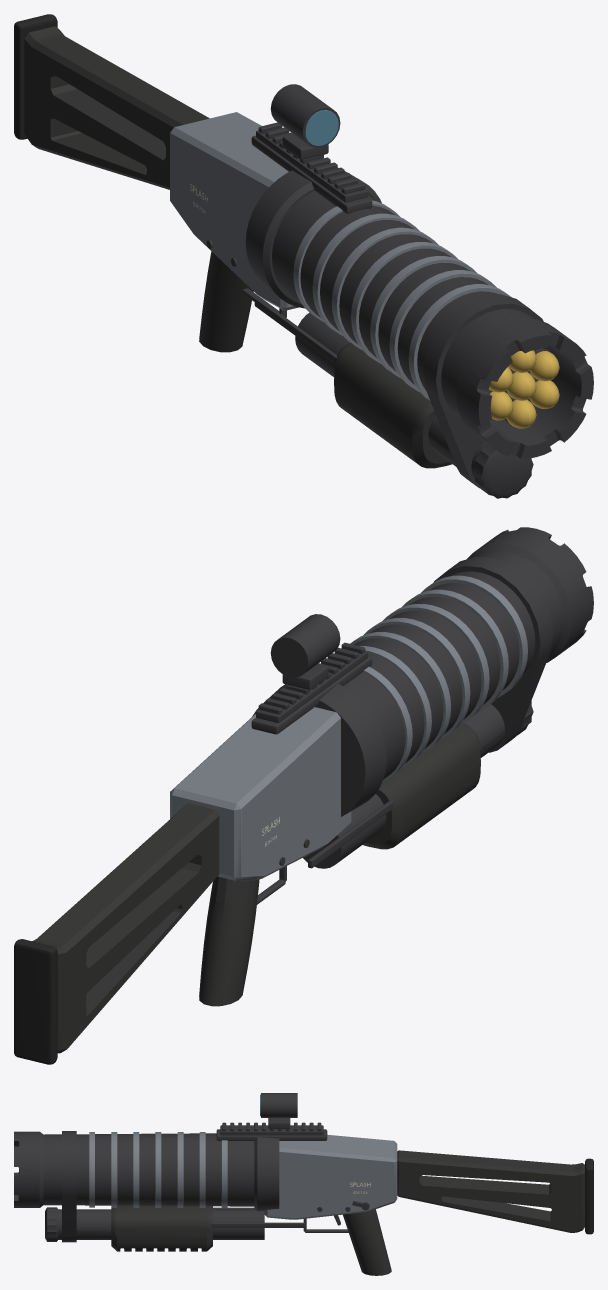
Rendered from splash.glb.
3 views of the same model, one above another, from view 1: azimuth 30°, elevation 25°; view 2: azimuth 150°, elevation 25°; view 3: azimuth 270°, elevation 25° (orthographic). The views are drawn at different scales.
Parts seen in each view (by area): view 1: Body; view 2: Body; view 3: Body.
Boxes of the visible parts, x1,y1,x2,y2 form: Body: (14, 14, 593, 498); Body: (14, 527, 593, 1064); Body: (14, 1093, 593, 1275).
Bounding box in the file's own units: 0.112 × 0.2648 × 0.787.
